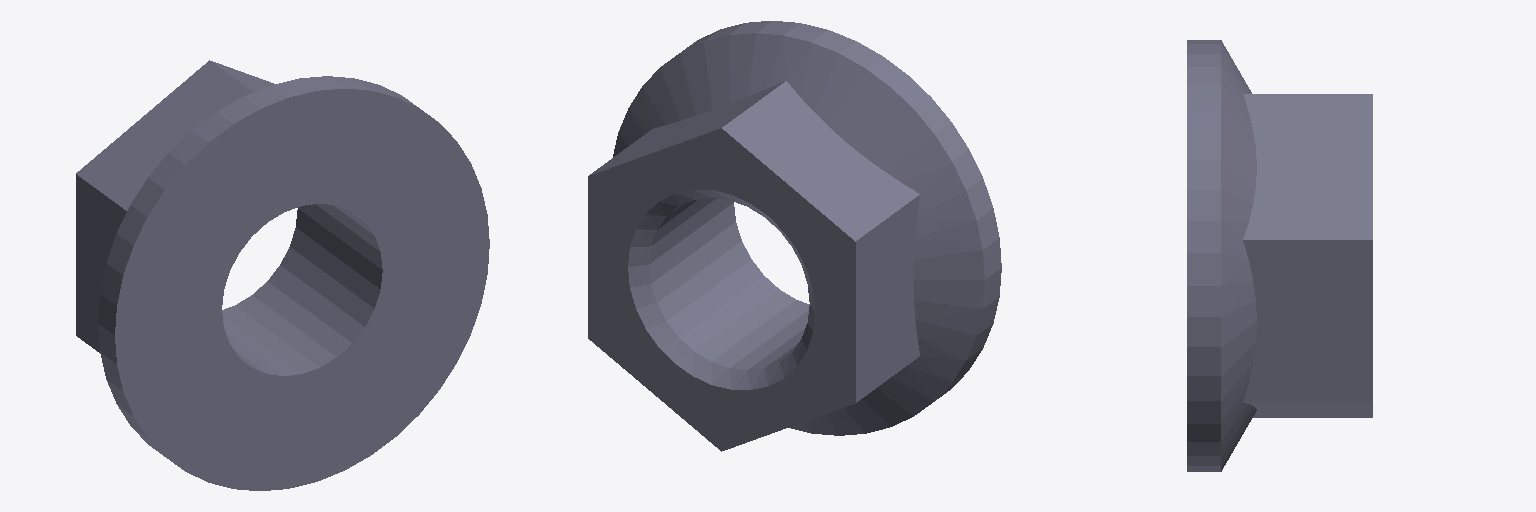
The model's file is T-NUT-M6.obj.
The picture shows the model from 3 angles: view 1: azimuth 30°, elevation 25°; view 2: azimuth 150°, elevation 25°; view 3: azimuth 270°, elevation 25°; orthographic projection.
Parts seen in each view (by area): view 1: bosch_[number redacted]_7oksrghvfxl9tnhhoeonxori5_1; view 2: bosch_[number redacted]_7oksrghvfxl9tnhhoeonxori5_1; view 3: bosch_[number redacted]_7oksrghvfxl9tnhhoeonxori5_1.
Boxes of the visible parts, <box> form: bosch_[number redacted]_7oksrghvfxl9tnhhoeonxori5_1: <box>76,60,489,490</box>; bosch_[number redacted]_7oksrghvfxl9tnhhoeonxori5_1: <box>588,21,1001,451</box>; bosch_[number redacted]_7oksrghvfxl9tnhhoeonxori5_1: <box>1187,40,1372,471</box>.
Bounding box in the file's own units: 14 × 13.96 × 6.